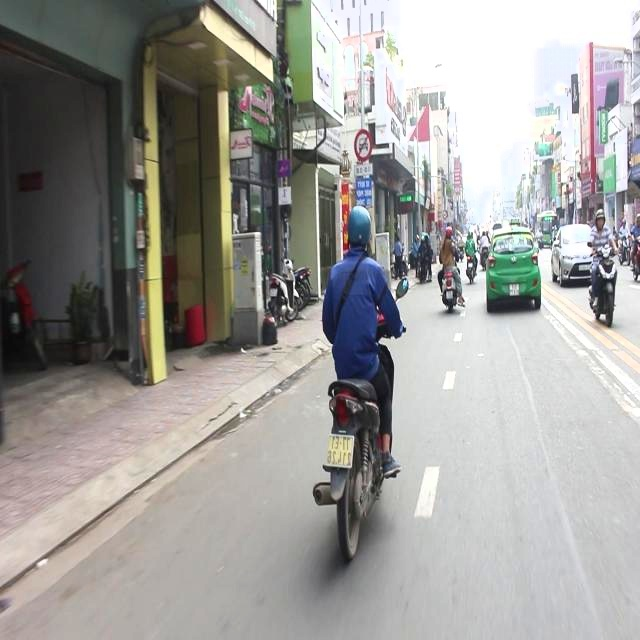P.103a: (350, 123, 375, 167)
